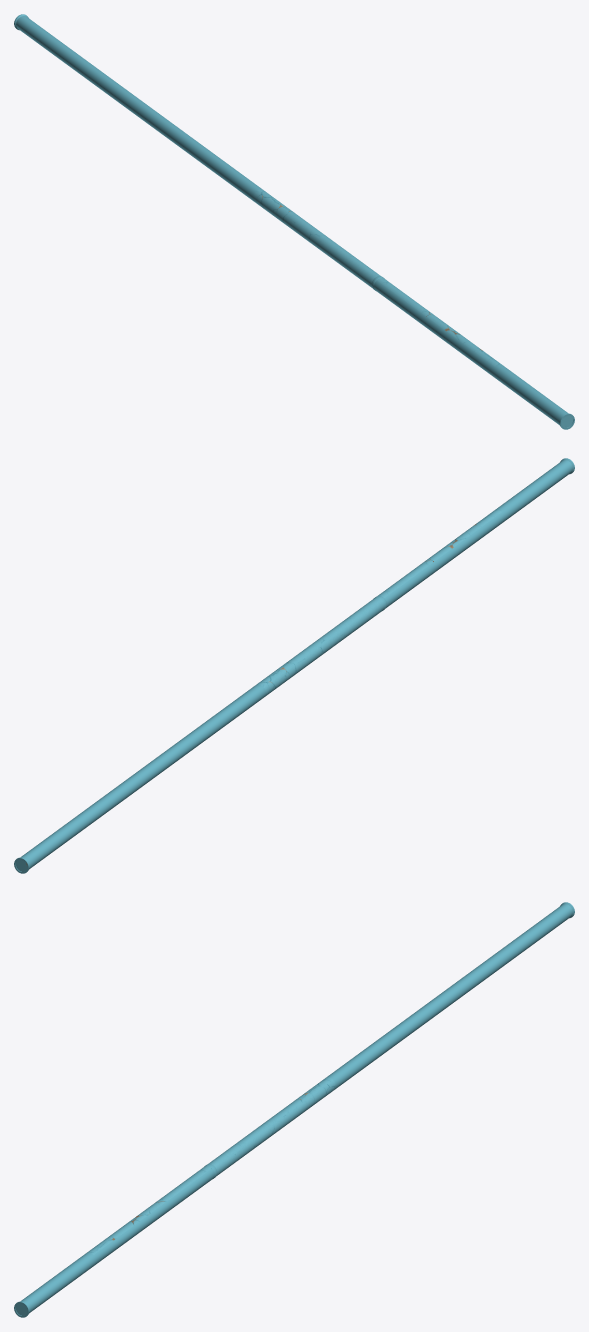
Rendered from bambooPole.fbx.
3 renders of one model, top to bottom at view 1: azimuth 30°, elevation 25°; view 2: azimuth 150°, elevation 25°; view 3: azimuth 330°, elevation 25°, orthographic.
Visible parts, largest first — view 1: bambooPole; view 2: bambooPole; view 3: bambooPole.
Part boxes in pixels (x1,y1,x2,y2): bambooPole: [14, 14, 574, 429]; bambooPole: [14, 458, 574, 873]; bambooPole: [14, 902, 574, 1317].
Bounding box in the file's own units: 11.51 × 11.51 × 739.
Materials: 1 (1 with a texture image).
